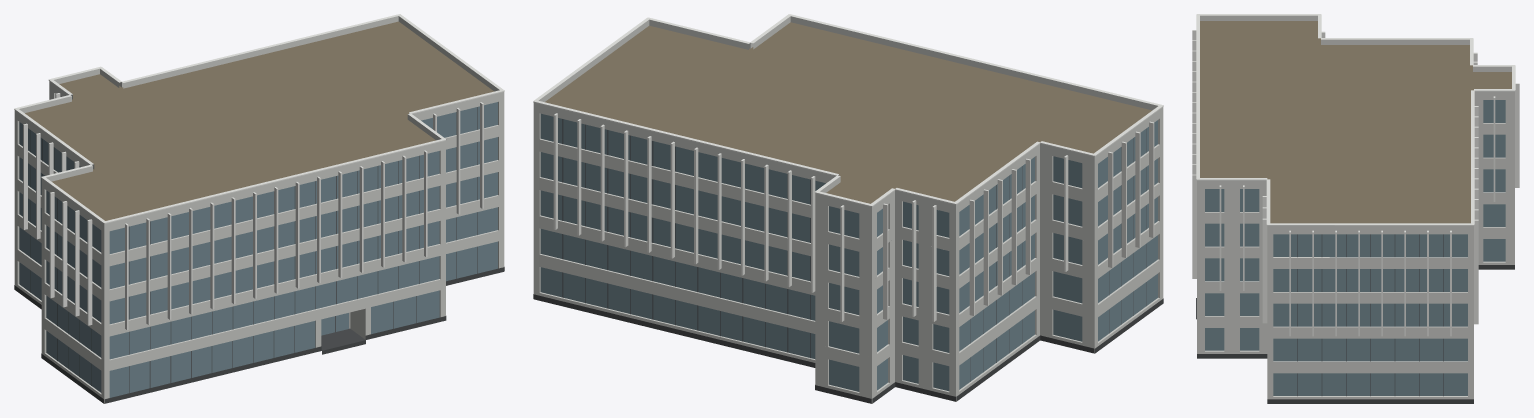
3 views of the same model, side by side, from view 1: azimuth 30°, elevation 25°; view 2: azimuth 150°, elevation 25°; view 3: azimuth 270°, elevation 25° (orthographic). The views are drawn at different scales.
Visible parts, largest first — view 1: sciC__glass, sciC__roof, sciC__wall, sciC__trim, sciC__parapet, sciC__base, sciC__frame; view 2: sciC__roof, sciC__glass, sciC__wall, sciC__trim, sciC__parapet, sciC__base, sciC__frame; view 3: sciC__roof, sciC__glass, sciC__wall, sciC__trim, sciC__parapet, sciC__base, sciC__frame.
Part boxes in pixels (x1,y1,x2,y2): sciC__glass: (19,102,497,397); sciC__roof: (25,21,493,403); sciC__wall: (14,85,504,403); sciC__trim: (14,14,504,330); sciC__parapet: (14,16,504,228); sciC__base: (14,267,504,403); sciC__frame: (30,107,477,393); sciC__roof: (545,22,1151,203); sciC__glass: (540,113,1157,391); sciC__wall: (533,107,1163,403); sciC__trim: (533,14,1163,321); sciC__parapet: (533,16,1163,211); sciC__base: (533,294,1163,403); sciC__frame: (562,119,1146,381); sciC__roof: (1200,21,1511,223); sciC__glass: (1205,100,1505,395); sciC__wall: (1197,95,1514,399); sciC__trim: (1192,14,1519,336); sciC__parapet: (1197,15,1514,229); sciC__base: (1196,265,1514,403); sciC__frame: (1297,234,1443,396).
Bounding box in the file's own units: 50.27 × 20 × 32.44.
